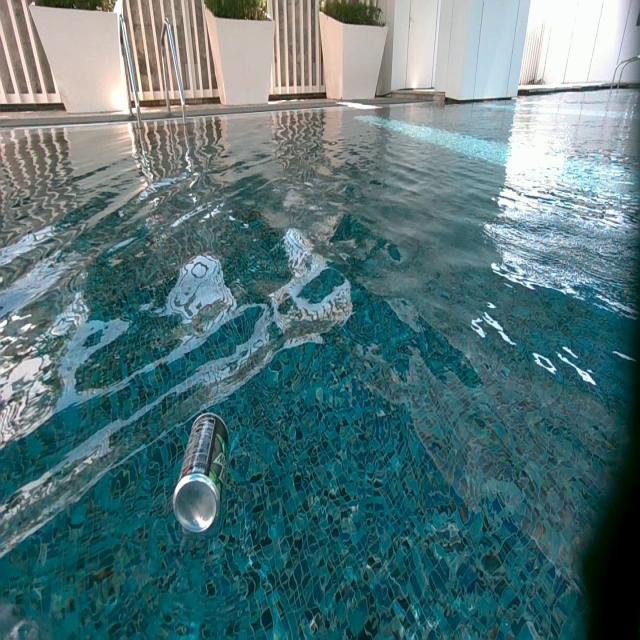Cans: (172, 407, 230, 536)
